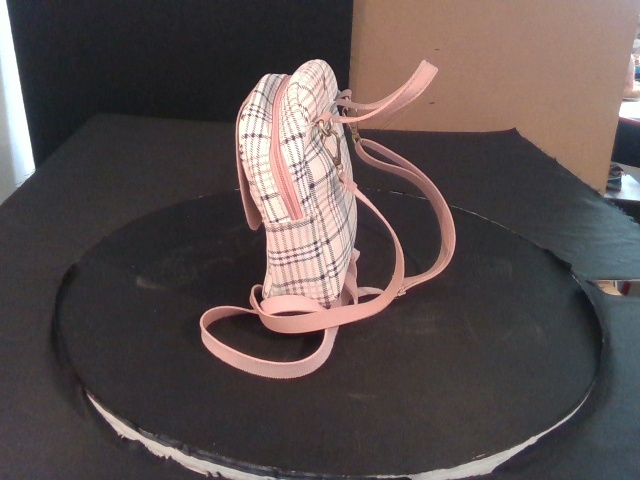bag: (237, 62, 357, 308)
